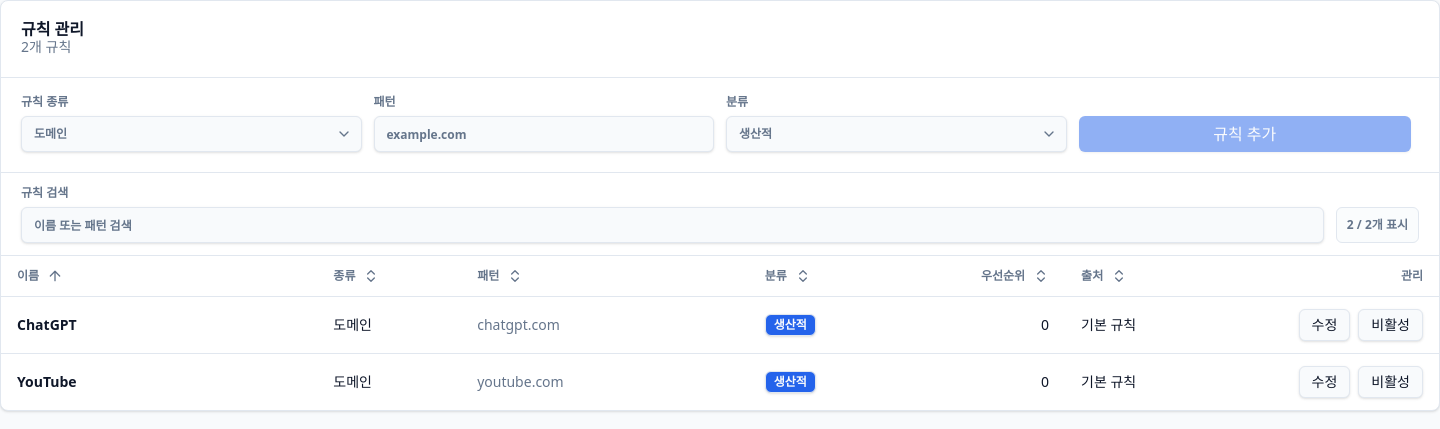
RulesSettings › filters rules by name or pattern and reports visible row count
Expected: the text "ChatGPT" is shown, [17,314,77,334]
Step 1. Type "youtube" into the search field labelled "규칙 검색" → (672, 225), box [21,207,1324,243]
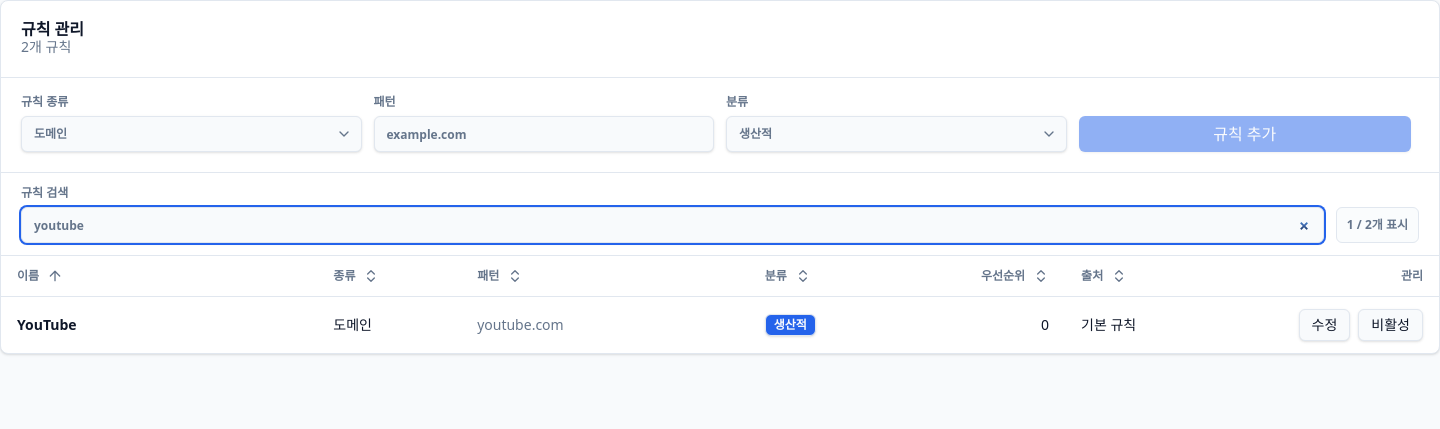
Expected: the text "YouTube" is shown, [17,314,77,334]
Now the text "1 / 2개 표시" is shown, box [1336,207,1419,243]
Now the text "ChatGPT" is gone
